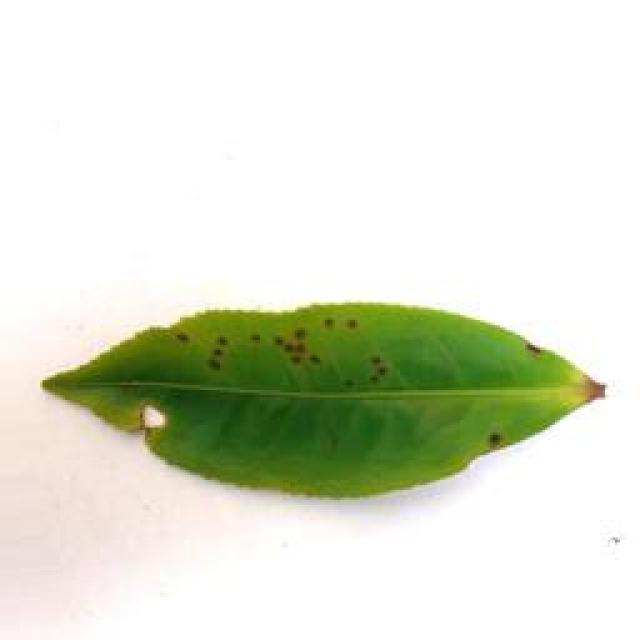Helopeltis: (32, 291, 618, 502)
